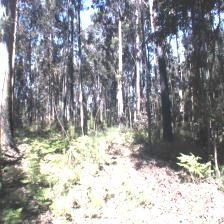trunktrack_idkeyframe: (158, 63, 174, 138), (146, 71, 152, 141)
